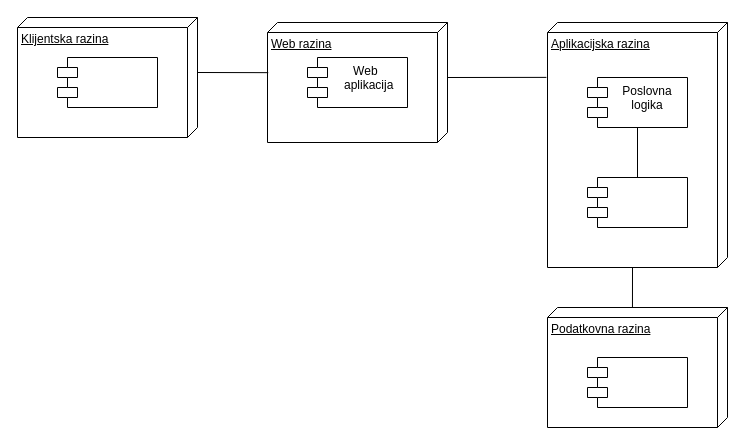
Image size: 745x445. Some labels were removed from this diagram. The centre of each missing label's shape, as x and y in pixels:
"Korisničko sučelje" belongs at point (107, 82).
"Pristup podacima" belongs at point (637, 202).
"SQL baza podataka" belongs at point (637, 382).
